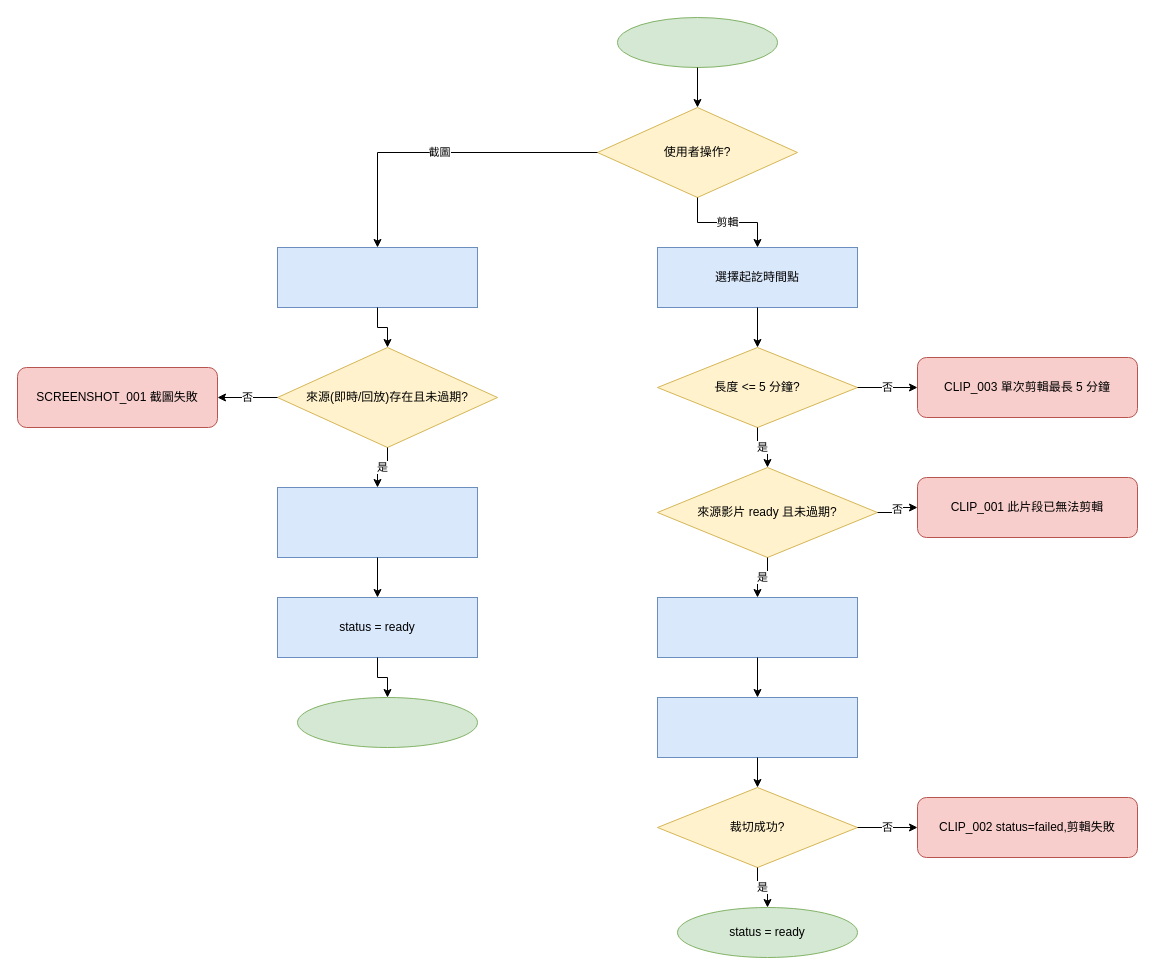
Image size: 1155x975. Some labels were removed from this diagram. The shapes that lost their labels are listed below. From the top down, each one's centre as x and y in pixels, then its label:
the point at 697,42: 開始
the point at 377,277: 點擊截圖按鈕
the point at 377,522: 擷取當下幀,建立 media_items type=photo, status=processing
the point at 757,627: 建立 media_items type=clip, status=processing
the point at 387,722: Toast「已保存至相簿」
the point at 757,727: 非同步裁切影片
